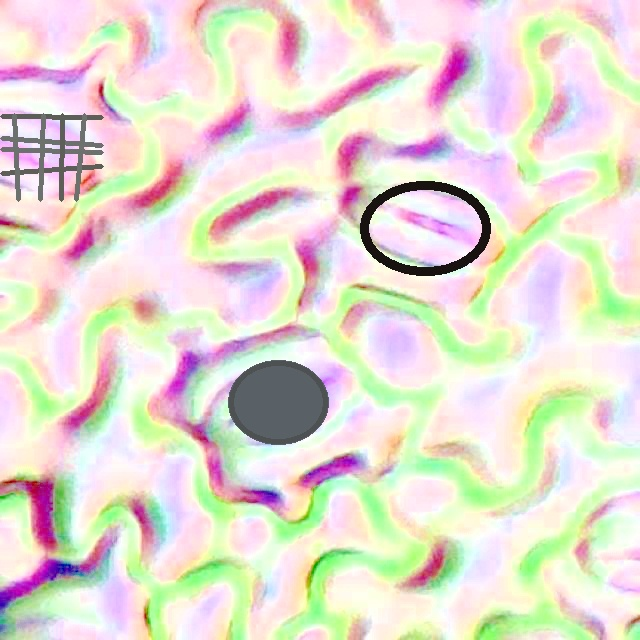open: (359, 181, 491, 276), (0, 113, 103, 201), (228, 361, 329, 444)
